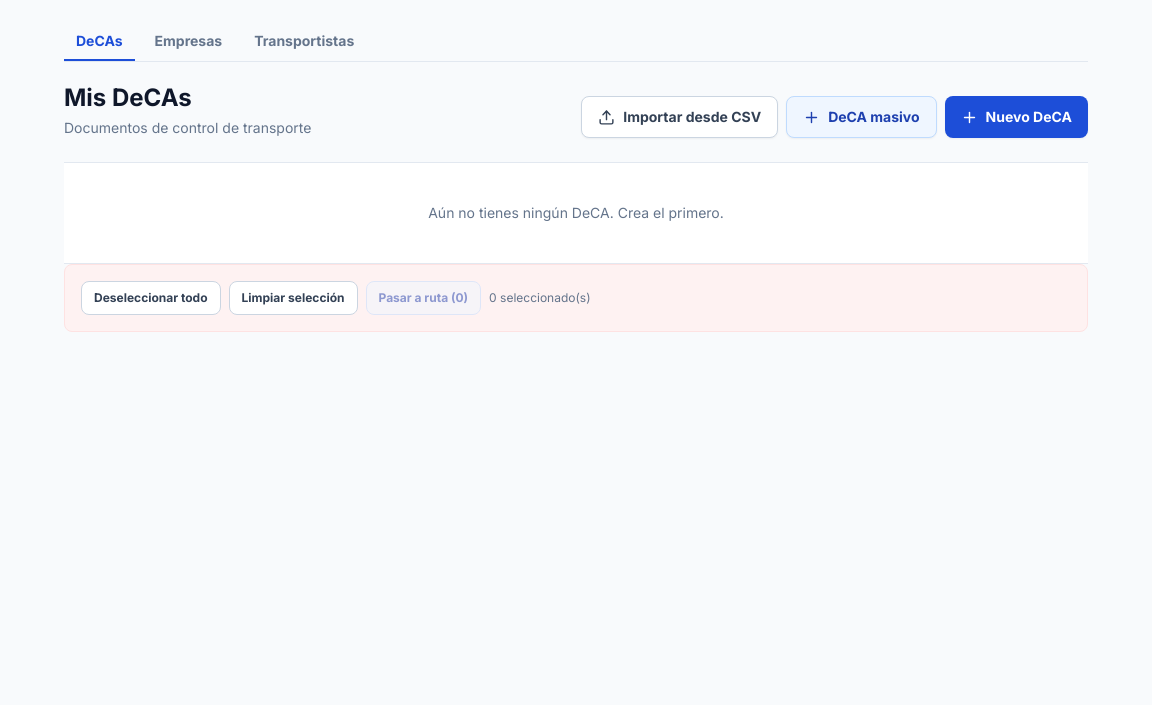
Test: identidades y carga del transportista en DeCASection › bloquea nombres ambiguos sin selección y muestra el rol correcto
Click the button "DeCA masivo" at (861, 117), box [786, 96, 937, 138]
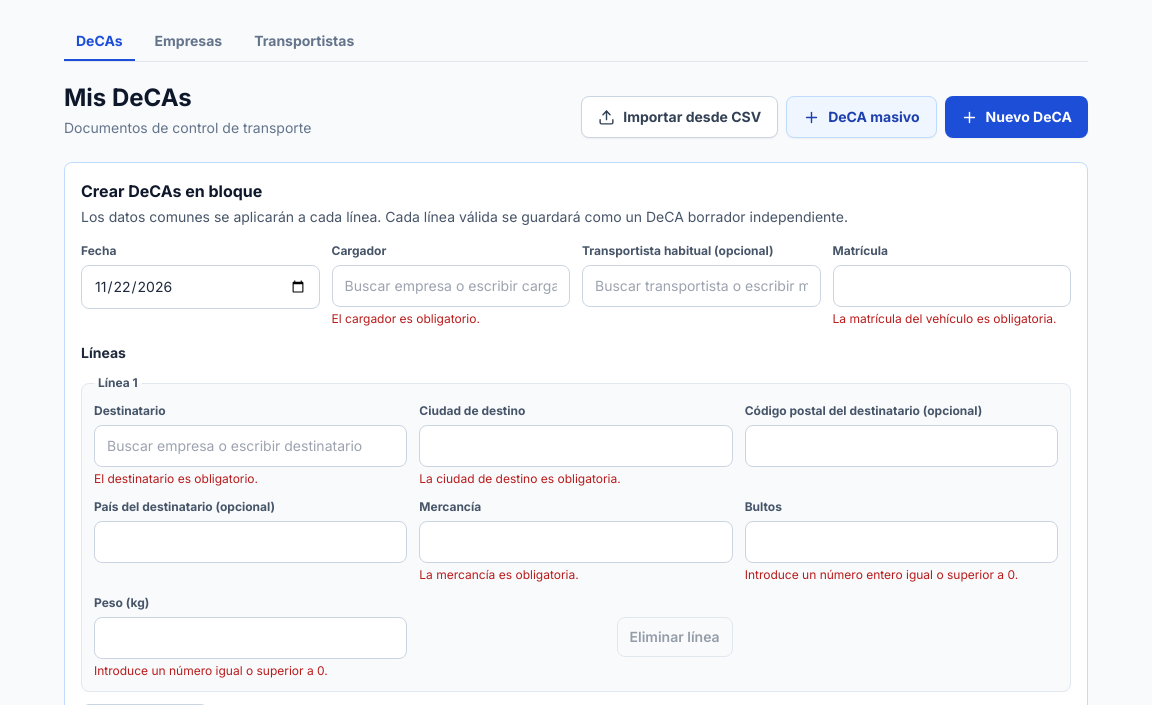
Check: the heading "Crear DeCAs en bloque" is shown, box [81, 181, 262, 201]
Type "Cargador Compartido" into the field named "Cargador común" at (451, 286), box [332, 265, 570, 307]
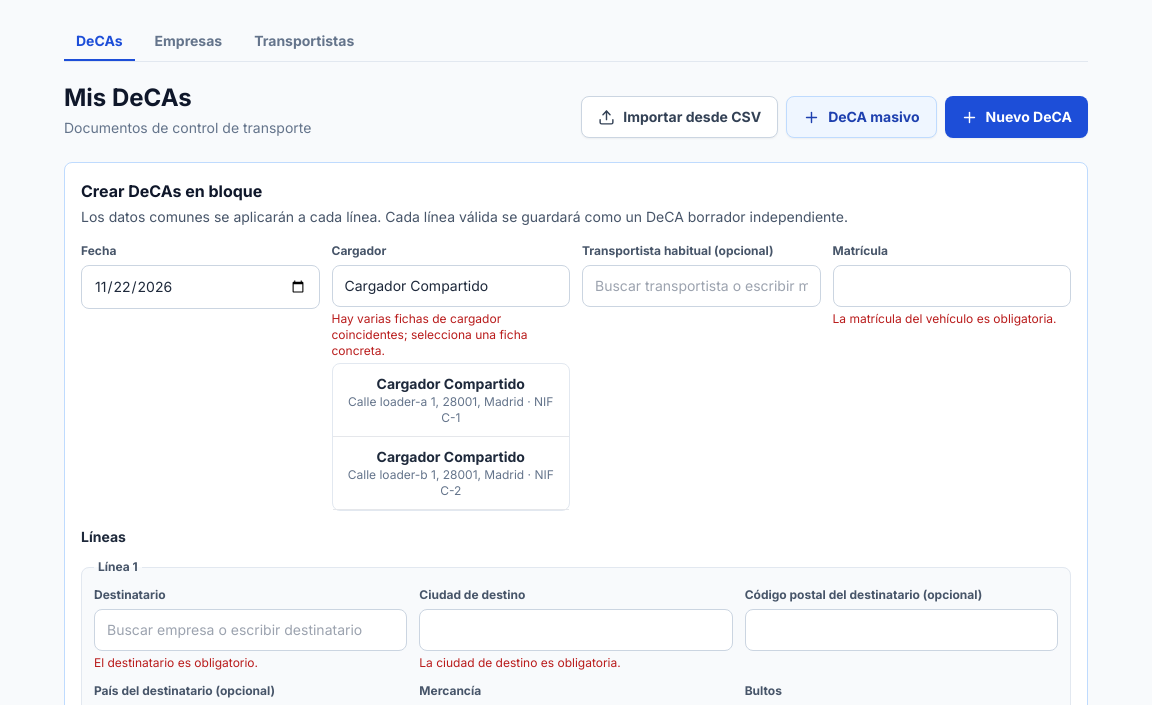
Type "Destino Compartido" into the field named "Destinatario de la línea 1" at (251, 630), box [94, 609, 407, 651]
(page scrolled)
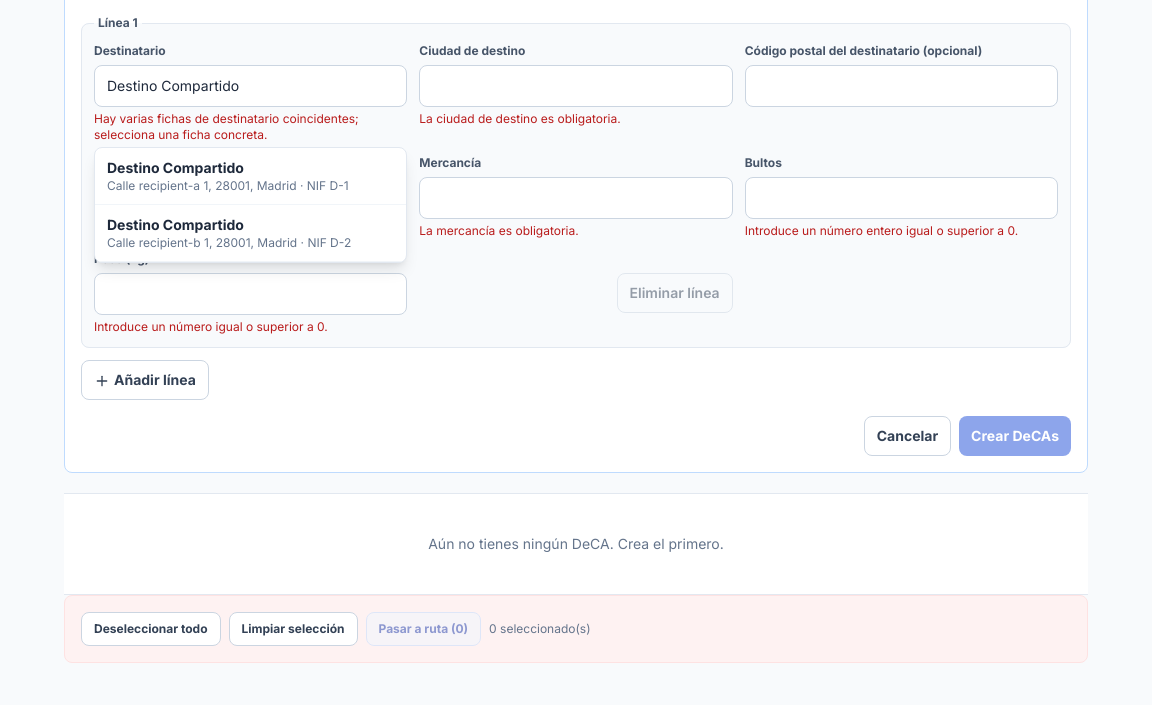
Check: the button "Crear DeCAs" is disabled, box [959, 416, 1071, 456]
Check: the text "Hay varias fichas de destinatario coincidentes; selecciona una ficha concreta." is shown, box [94, 111, 359, 142]
